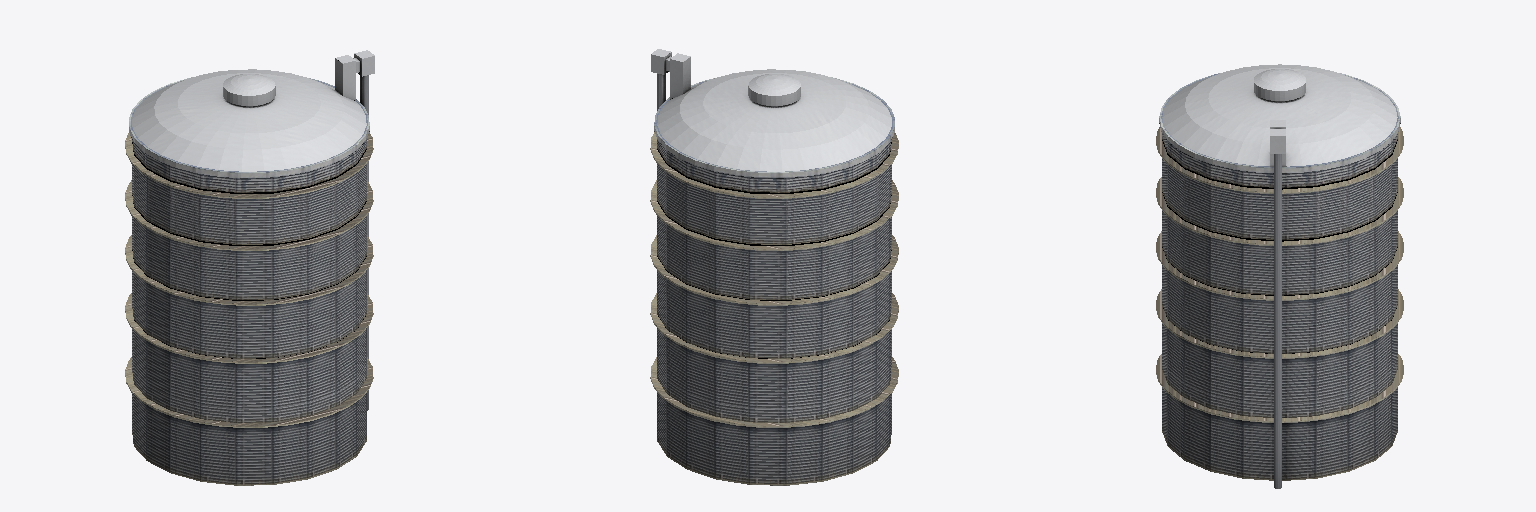
3 views of the same model, side by side, from view 1: azimuth 30°, elevation 25°; view 2: azimuth 150°, elevation 25°; view 3: azimuth 270°, elevation 25° (orthographic).
Parts seen in each view (by area): view 1: 1_2000_plynojem_Circle, 1_0500_ochozy_Circle.002; view 2: 1_2000_plynojem_Circle, 1_0500_ochozy_Circle.002; view 3: 1_2000_plynojem_Circle, 1_0500_ochozy_Circle.002.
Part boxes in pixels (bbox=[...]): 1_2000_plynojem_Circle: bbox=[129, 50, 374, 485]; 1_0500_ochozy_Circle.002: bbox=[125, 132, 373, 427]; 1_2000_plynojem_Circle: bbox=[651, 49, 894, 485]; 1_0500_ochozy_Circle.002: bbox=[650, 132, 898, 427]; 1_2000_plynojem_Circle: bbox=[1159, 64, 1400, 488]; 1_0500_ochozy_Circle.002: bbox=[1156, 127, 1403, 422].
Bounding box in the file's own units: 61.87 × 92.23 × 58.25.
Materials: 1 (1 with a texture image).